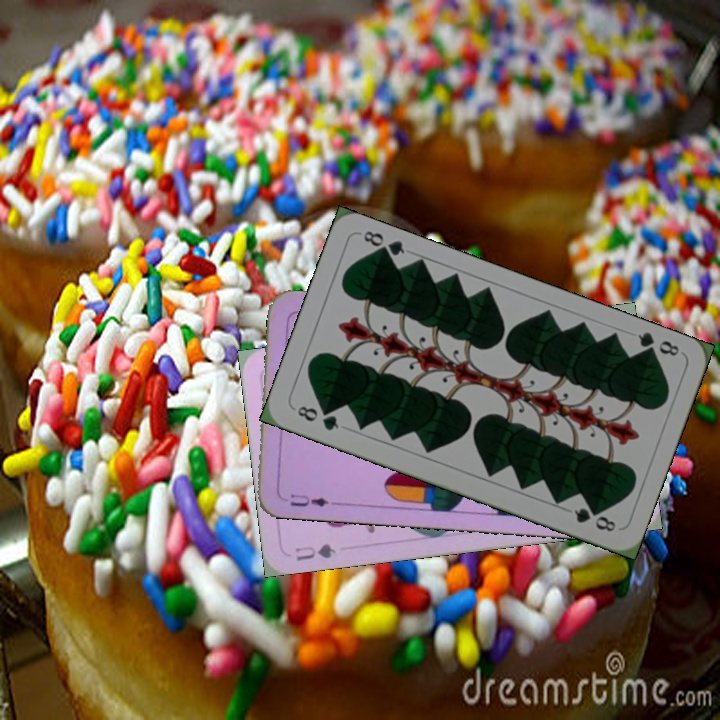EU: (286, 490, 331, 509)
G8: (291, 401, 342, 433), (633, 328, 682, 361)
GU: (291, 539, 338, 564)
